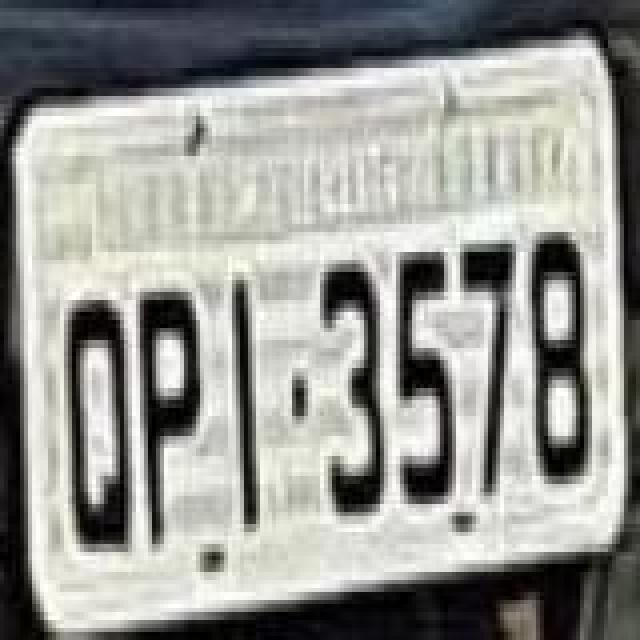1: (232, 276, 264, 540)
3: (316, 260, 388, 524)
5: (392, 252, 456, 508)
7: (458, 236, 518, 500)
8: (526, 230, 594, 490)
P: (138, 288, 206, 552)
Q: (60, 296, 132, 552)
